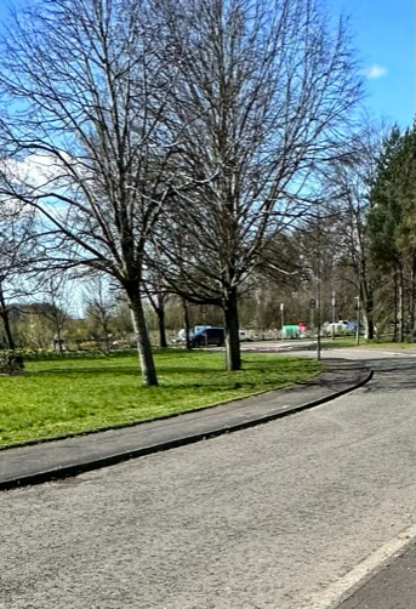car: (183, 320, 230, 352)
tree: (150, 0, 363, 346), (0, 0, 188, 385)
